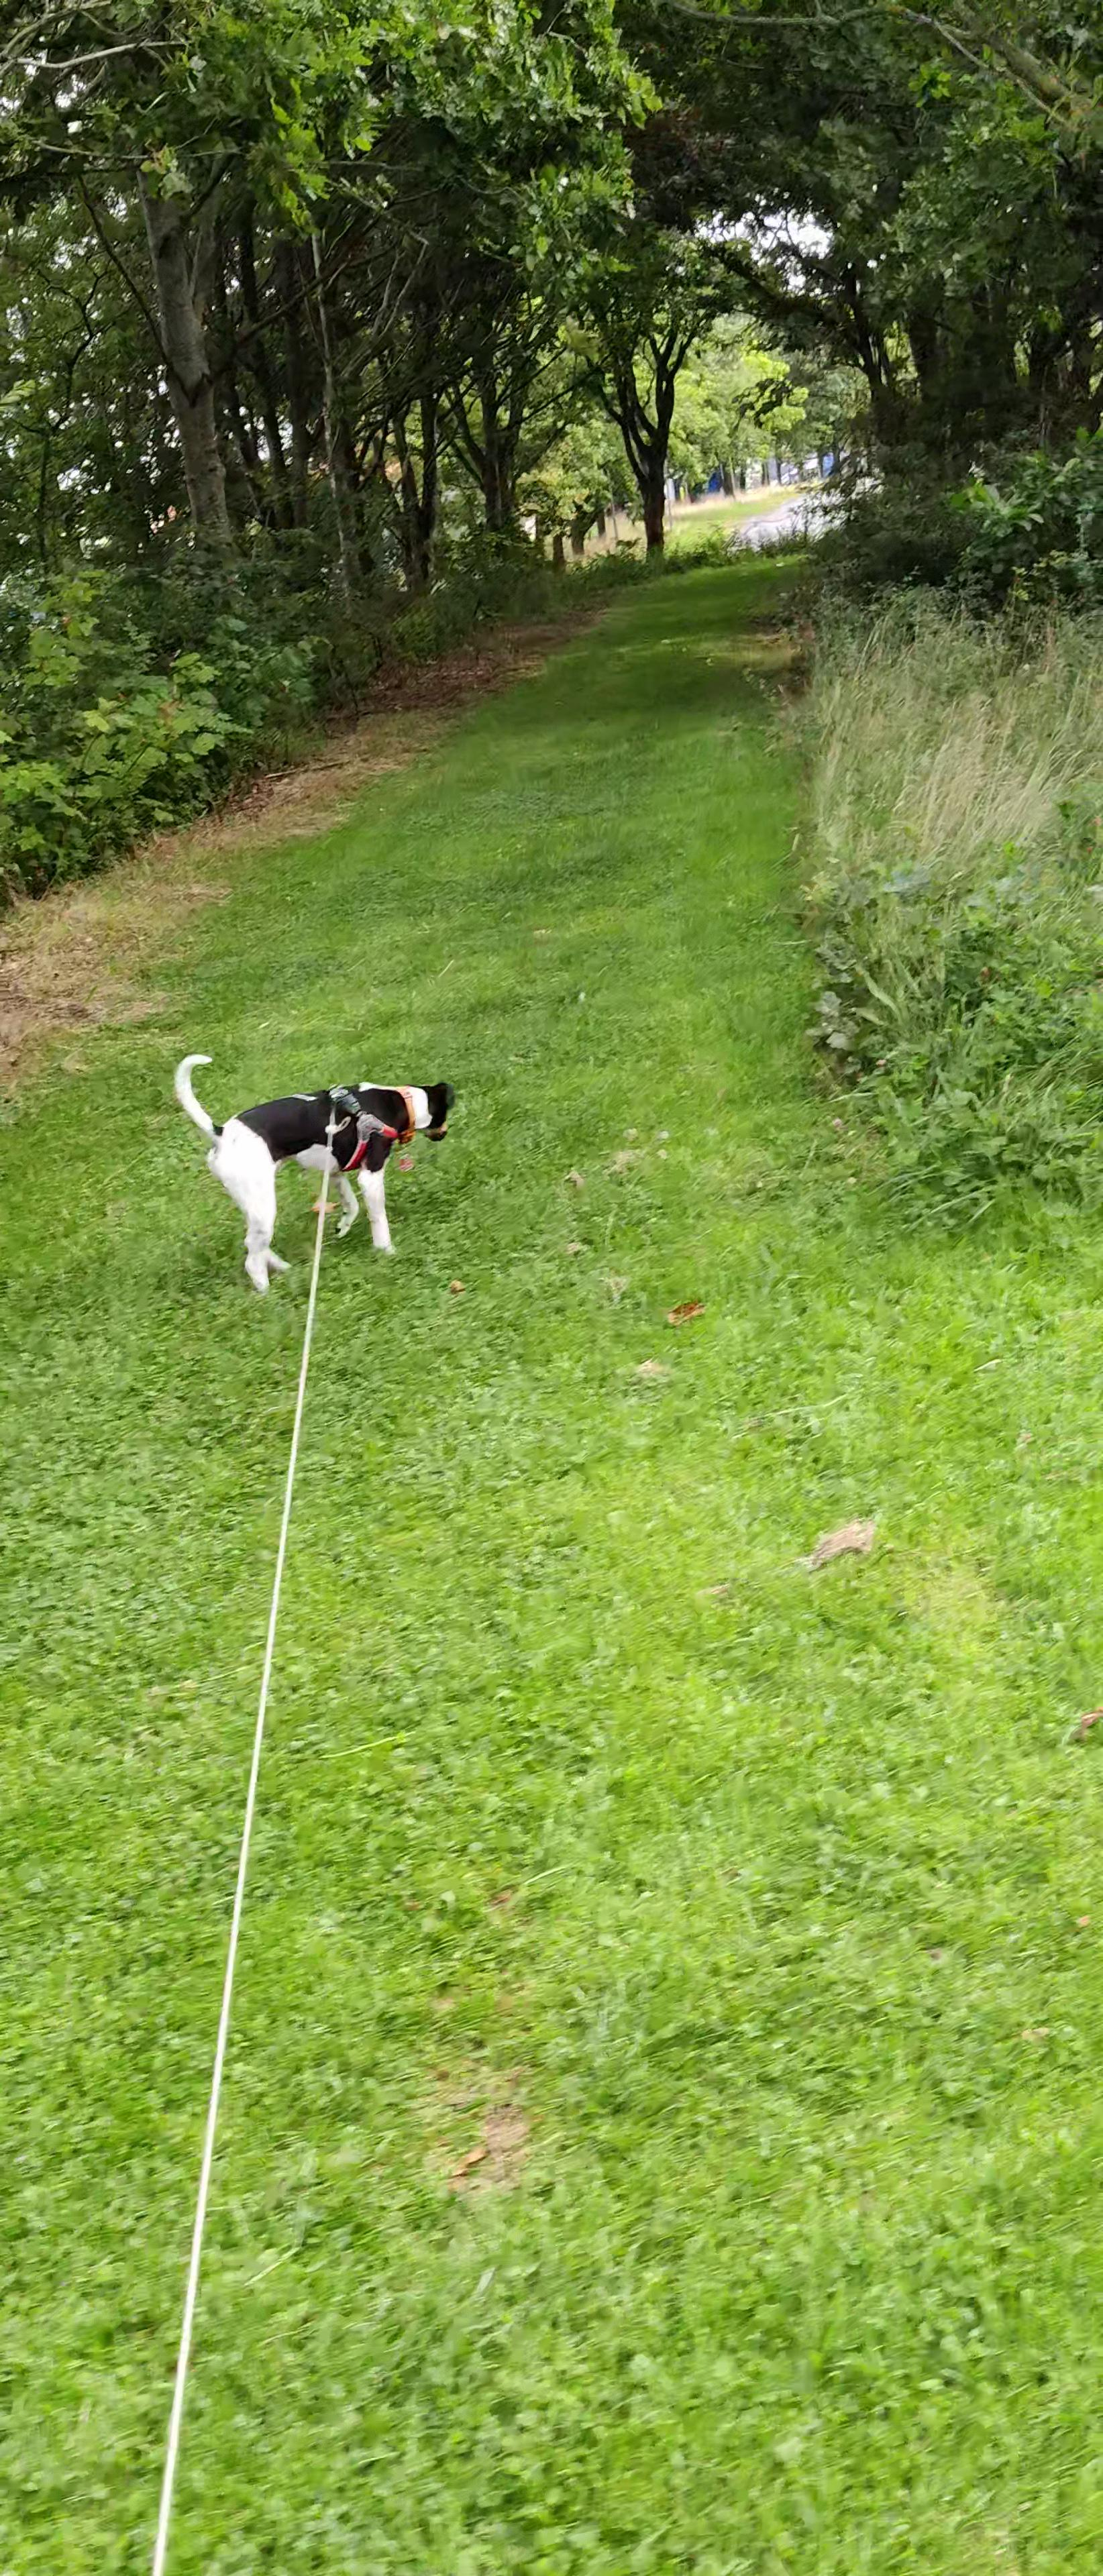Dog: (169, 1050, 457, 1296)
